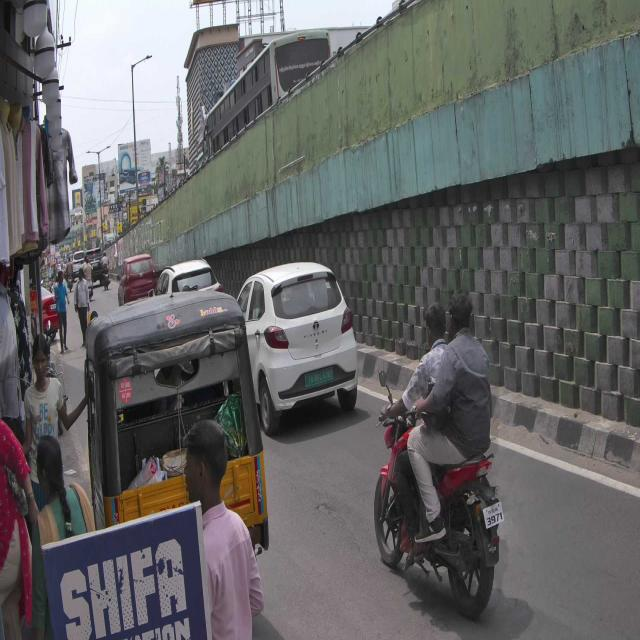double_rider: (374, 288, 504, 620)
